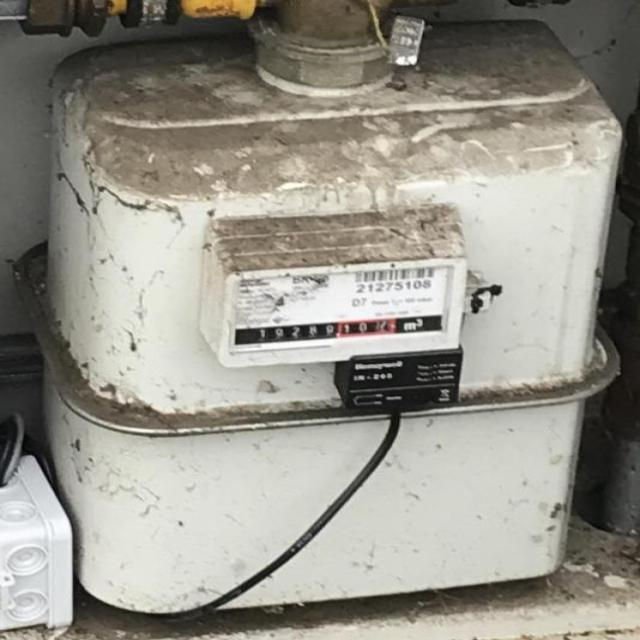gaz_meter: (233, 271, 452, 344)
indication: (250, 315, 395, 342)
